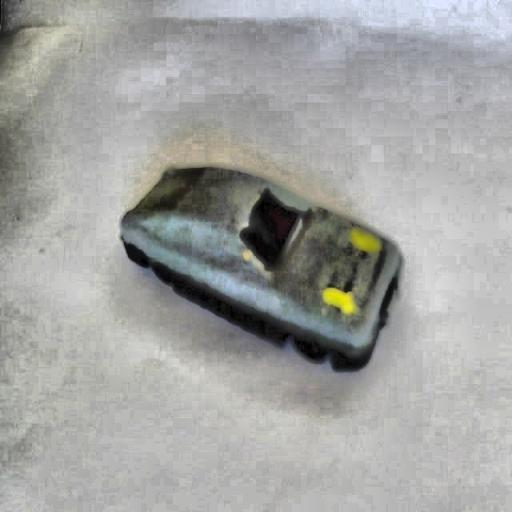normal_car: (115, 156, 408, 372)
